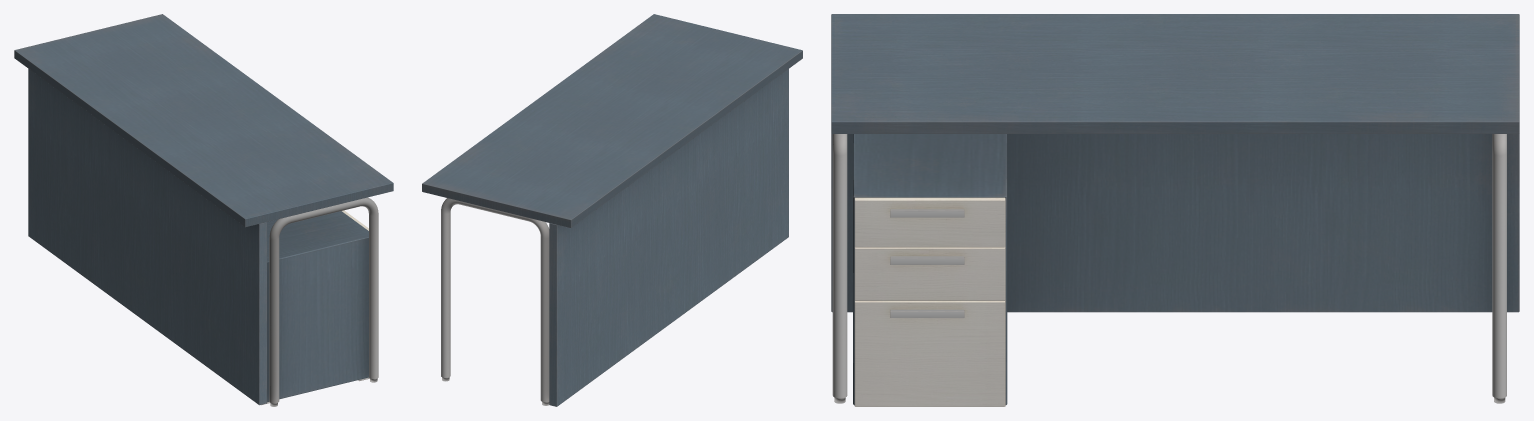
File: TableWood.fbx
3 views of the same model, side by side, from view 1: azimuth 30°, elevation 25°; view 2: azimuth 150°, elevation 25°; view 3: azimuth 270°, elevation 25° (orthographic). The views are drawn at different scales.
Visible parts, largest first — view 1: TableWood; view 2: TableWood; view 3: TableWood.
Part boxes in pixels (box(x1,y1,x2,y2)): TableWood: box(14, 14, 393, 406); TableWood: box(422, 14, 802, 406); TableWood: box(831, 14, 1519, 406).
Bounding box in the file's own units: 67.46 × 85.75 × 181.
